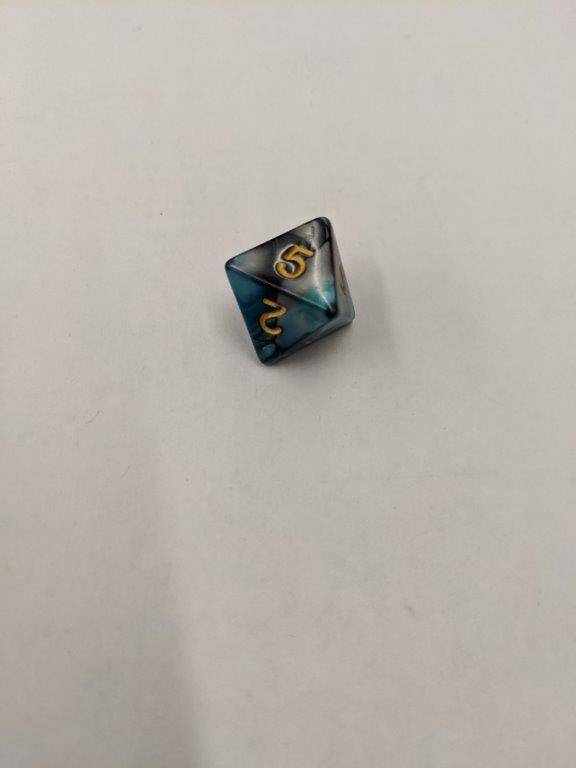d8-5: (223, 215, 358, 370)
